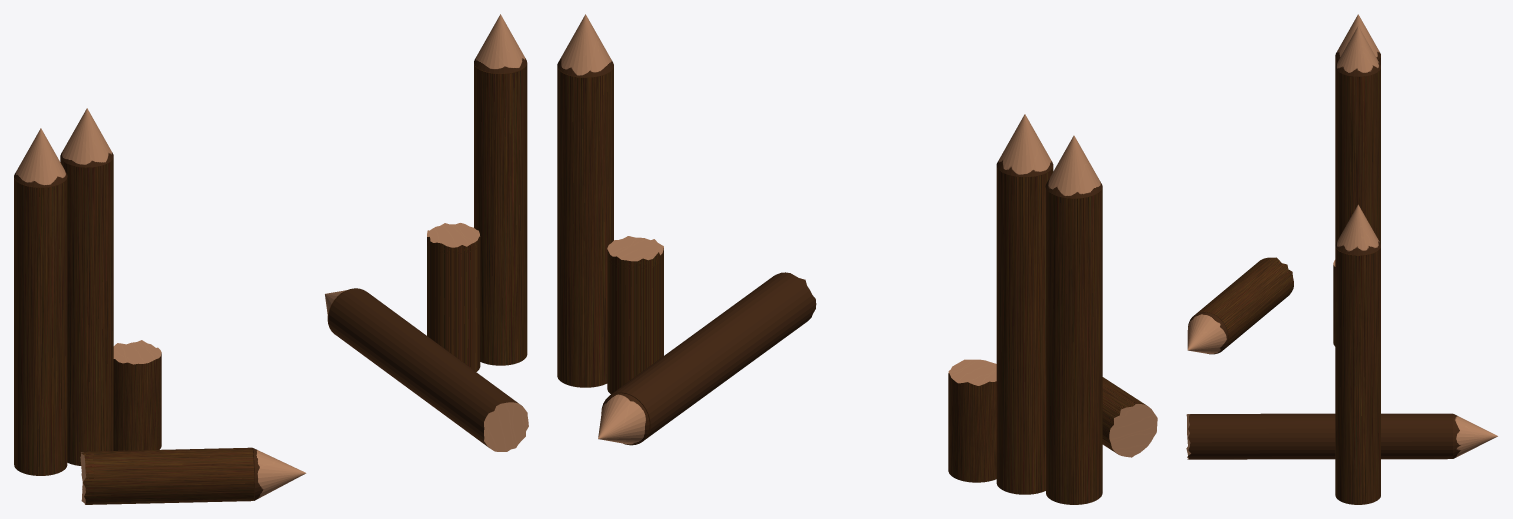
File: woodwallDestroyed.fbx
3 renders of one model, left to right at view 1: azimuth 30°, elevation 25°; view 2: azimuth 150°, elevation 25°; view 3: azimuth 270°, elevation 25°, orthographic. The views are drawn at different scales.
Visible parts, largest first — view 1: Cylinder; view 2: Cylinder; view 3: Cylinder.
Part boxes in pixels (left/top/right/bottom): Cylinder: left=14, top=14, right=528, bottom=504; Cylinder: left=557, top=14, right=1157, bottom=504; Cylinder: left=1186, top=14, right=1497, bottom=504.
Bounding box in the file's own units: 2187 × 1441 × 1367.
